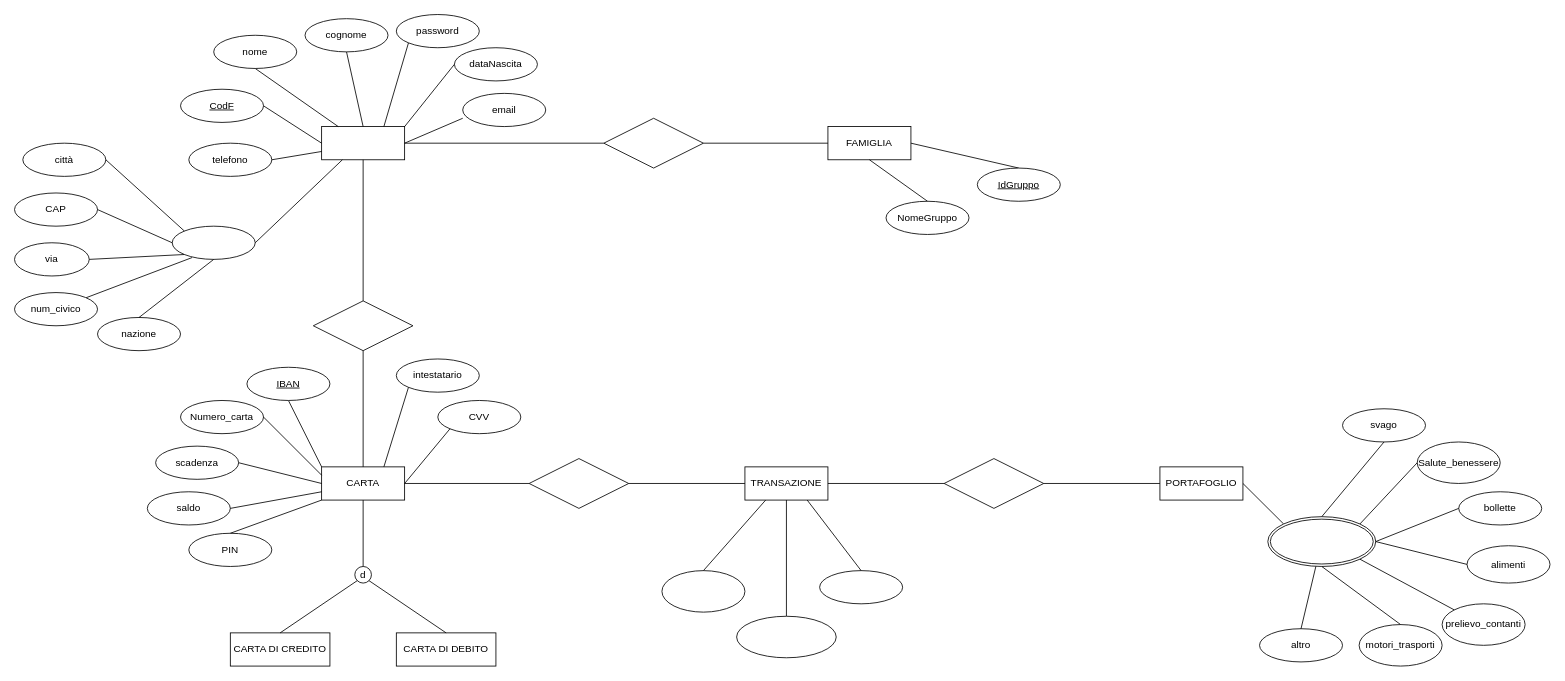
Image size: 1565x681. Some labels were removed from this diagram. The shapes that lost their labels are listed below. From the top down, each one's centre as x and y in pixels, then its label:
point (363, 143): UTENTE
point (653, 142): APPARTENEZA
point (213, 242): indirizzo
point (362, 325): POSSIEDE
point (578, 483): EFFETTUA
point (993, 483): APPARTIENE
point (1321, 541): categoria
point (703, 591): importo
point (861, 587): DataTransazione
point (786, 636): CodiceTransazione
